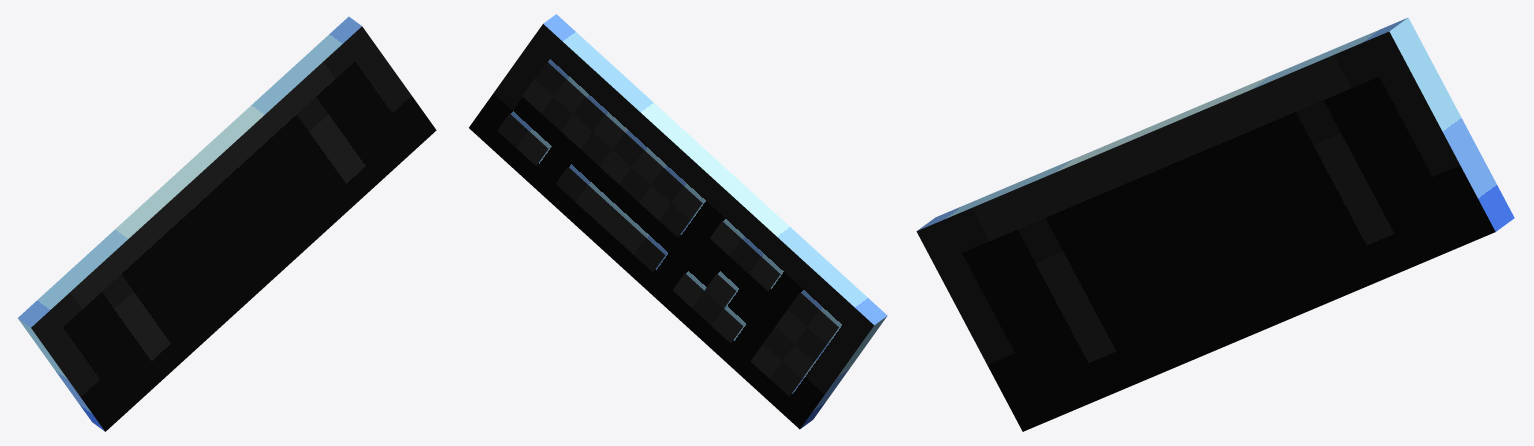
Rendered from sl_rgb_keyboard.glb.
The picture shows the model from 3 angles, left to right: view 1: azimuth 30°, elevation 25°; view 2: azimuth 150°, elevation 25°; view 3: azimuth 330°, elevation 25°; orthographic projection. The views are drawn at different scales.
Visible parts, largest first — view 1: bb_rgb_keyboard; view 2: bb_rgb_keyboard; view 3: bb_rgb_keyboard.
Boxes of the visible parts, <box> form: bb_rgb_keyboard: <box>18,16,436,431</box>; bb_rgb_keyboard: <box>469,14,887,429</box>; bb_rgb_keyboard: <box>916,17,1514,431</box>.
Bounding box in the file's own units: 1.1 × 0.8872 × 0.0781.
Materials: 1 (1 with a texture image).
